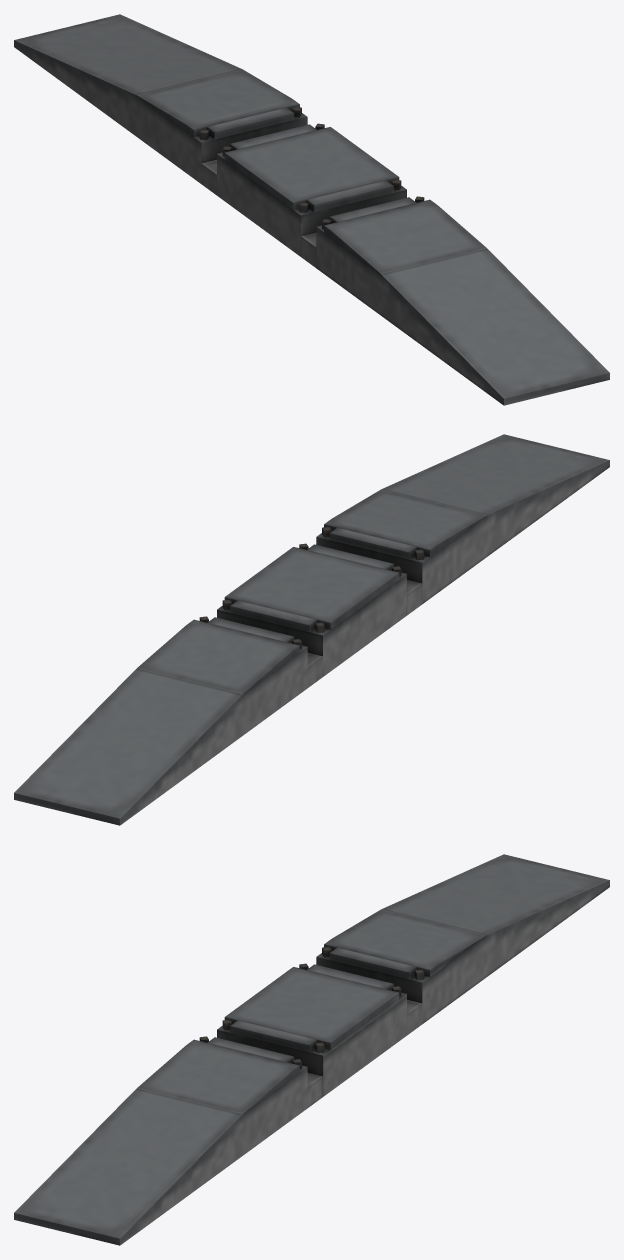
The model's file is mvp_ir_crossbridge.obj.
3 views of the same model, one above another, from view 1: azimuth 30°, elevation 25°; view 2: azimuth 150°, elevation 25°; view 3: azimuth 330°, elevation 25° (orthographic).
Visible parts, largest first — view 1: RAIL_LEFT_crossbridge, RAIL_RIGHT_crossbridge, RAIL_BASE_crossbridge; view 2: RAIL_RIGHT_crossbridge, RAIL_LEFT_crossbridge, RAIL_BASE_crossbridge; view 3: RAIL_LEFT_crossbridge, RAIL_RIGHT_crossbridge, RAIL_BASE_crossbridge.
Part boxes in pixels (<box>): RAIL_LEFT_crossbridge: <box>316,196,609,405</box>; RAIL_RIGHT_crossbridge: <box>14,14,307,183</box>; RAIL_BASE_crossbridge: <box>201,123,406,267</box>; RAIL_RIGHT_crossbridge: <box>14,616,307,825</box>; RAIL_LEFT_crossbridge: <box>316,434,609,603</box>; RAIL_BASE_crossbridge: <box>217,543,422,687</box>; RAIL_LEFT_crossbridge: <box>14,1036,307,1245</box>; RAIL_RIGHT_crossbridge: <box>316,854,609,1023</box>; RAIL_BASE_crossbridge: <box>217,963,422,1107</box>.
Size of the model in its own units: 1 by 0.4375 by 8.
Materials: 1 (1 with a texture image).
